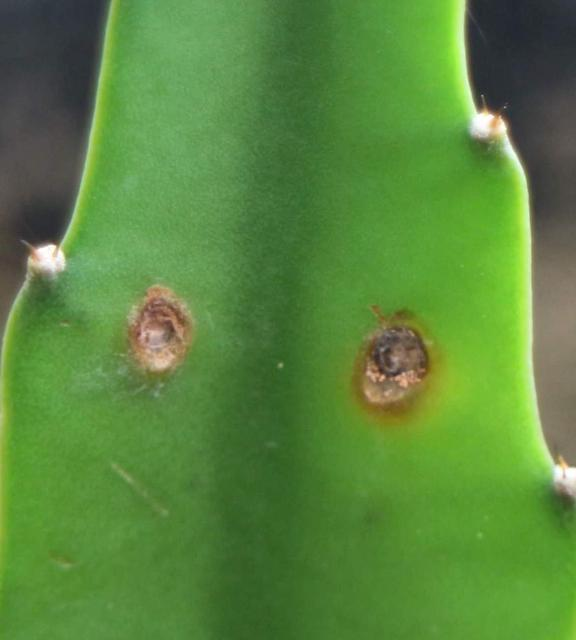stemcanker: (353, 303, 450, 422), (119, 280, 198, 379)
